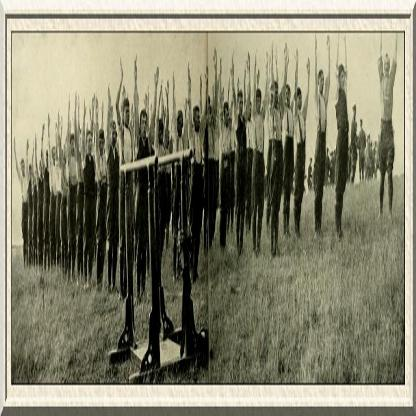face: (87, 135, 93, 155), (125, 107, 131, 127), (142, 118, 148, 138), (340, 69, 346, 88), (195, 112, 201, 130), (238, 97, 244, 115), (319, 74, 325, 92), (112, 127, 117, 147), (286, 87, 291, 107), (100, 136, 105, 155), (178, 116, 183, 135), (225, 107, 230, 126), (385, 57, 390, 76), (257, 97, 262, 115), (275, 89, 280, 107), (297, 94, 302, 108), (248, 104, 252, 121), (220, 113, 224, 129), (151, 127, 155, 142), (53, 149, 57, 162), (160, 129, 164, 142), (72, 139, 75, 156), (80, 133, 83, 149), (207, 101, 210, 116), (271, 92, 274, 107), (22, 162, 25, 176), (41, 165, 44, 178), (47, 153, 50, 165), (167, 134, 170, 145), (354, 108, 357, 117)
